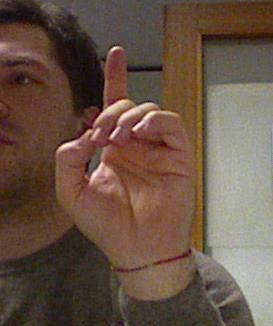up: (49, 45, 195, 270)
